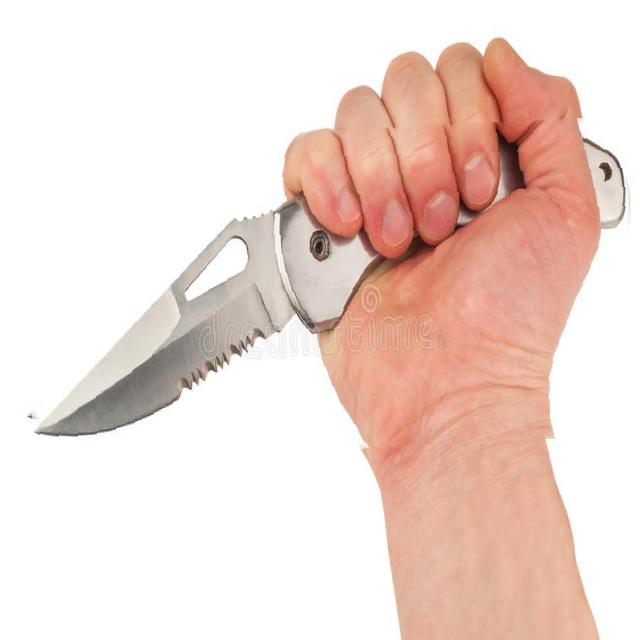knife: (22, 123, 640, 457)
